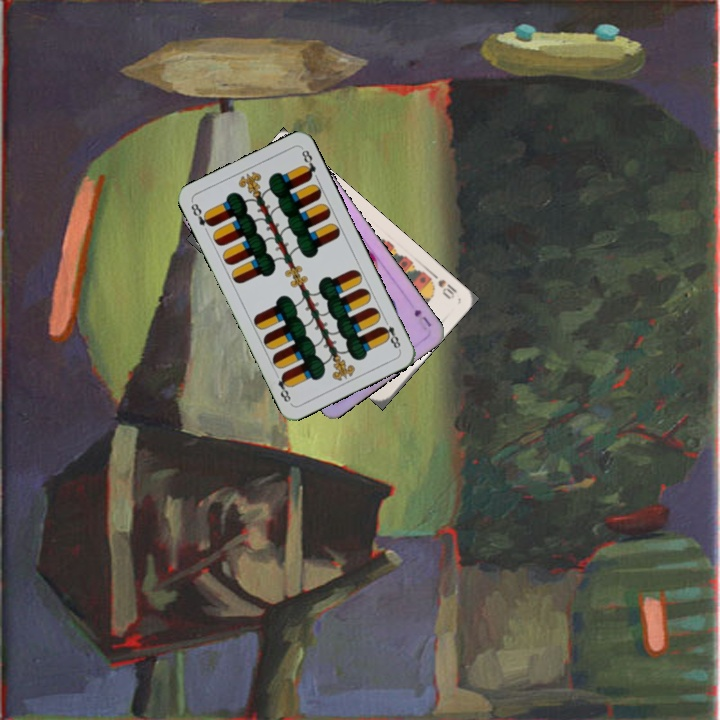E8: (377, 314, 403, 353), (187, 198, 215, 229)
S10: (424, 268, 460, 302)
SU: (410, 305, 434, 330)
